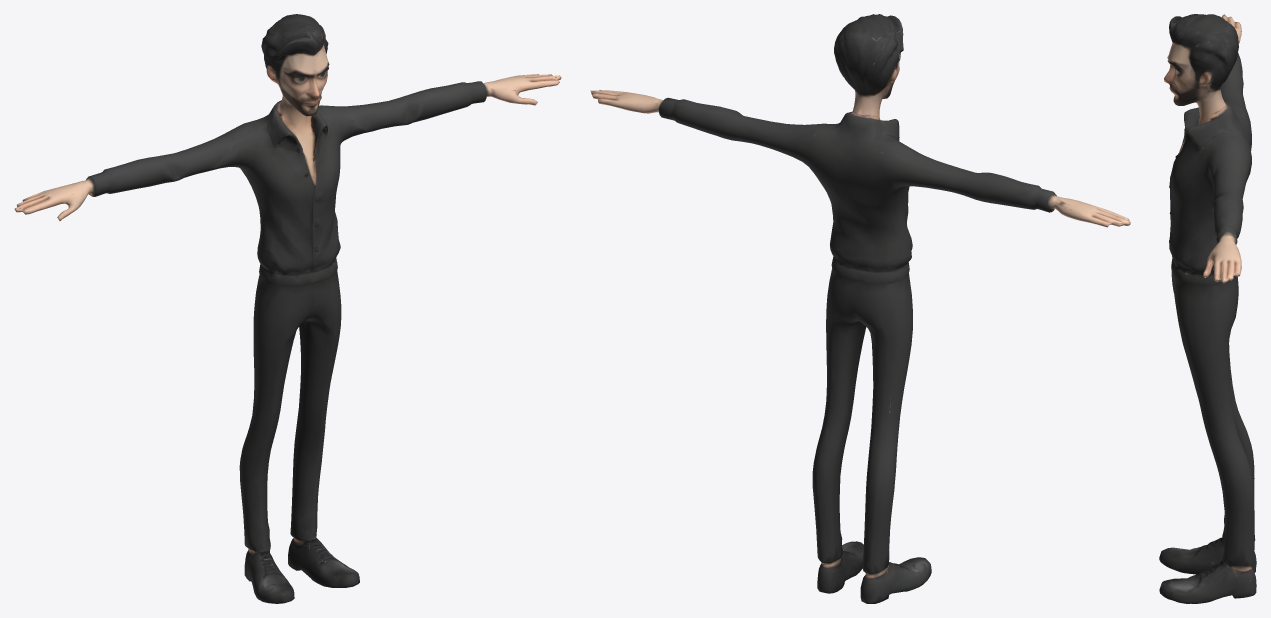
File: CalisanErkek2.fbx
The picture shows the model from 3 angles, left to right: view 1: azimuth 30°, elevation 25°; view 2: azimuth 150°, elevation 25°; view 3: azimuth 270°, elevation 25°; orthographic projection.
Parts seen in each view (by area): view 1: Mesh_0; view 2: Mesh_0; view 3: Mesh_0.
Boxes of the visible parts, x1,y1,x2,y2 form: Mesh_0: (14, 14, 561, 603); Mesh_0: (590, 14, 1130, 603); Mesh_0: (1159, 14, 1256, 603).
Size of the model in its own units: 191 by 190 by 29.58.
Materials: 1 (1 with a texture image).
